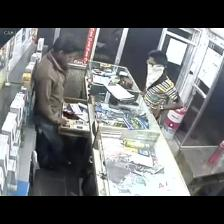person: (34, 35, 79, 168), (144, 50, 183, 118)
